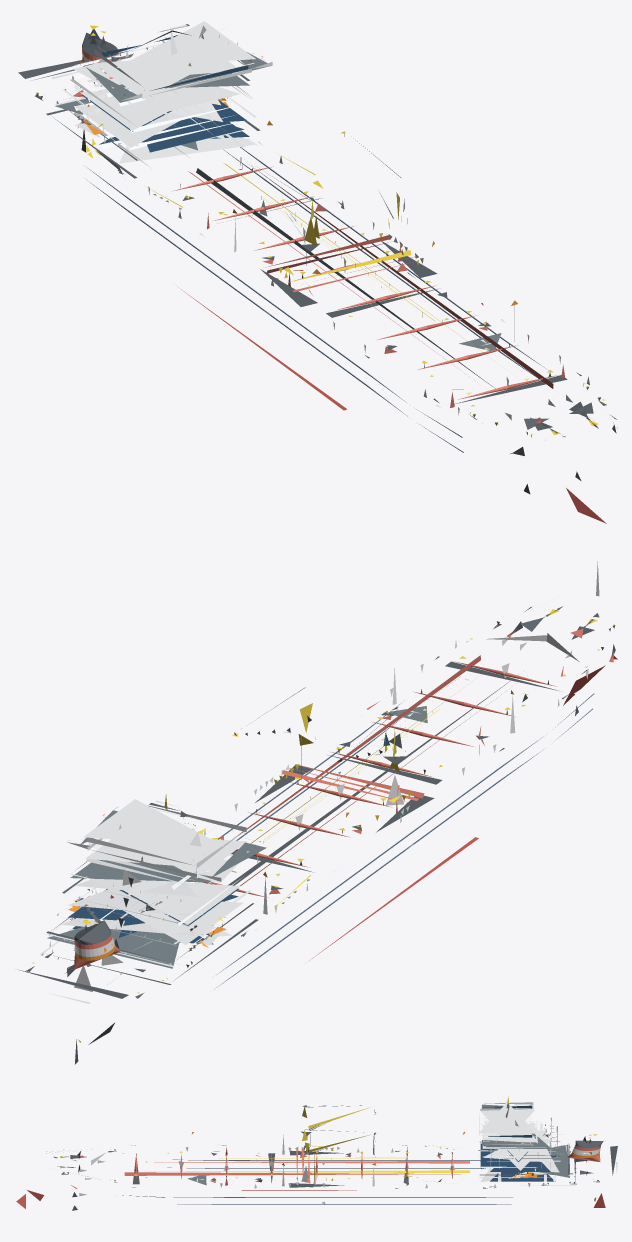
The model's file is ship_30.glb.
3 views of the same model, one above another, from view 1: azimuth 30°, elevation 25°; view 2: azimuth 150°, elevation 25°; view 3: azimuth 270°, elevation 25° (orthographic). The views are drawn at different scales.
Parts seen in each view (by area): view 1: TrueHelm_Ship_30; view 2: TrueHelm_Ship_30; view 3: TrueHelm_Ship_30.
Boxes of the visible parts, x1,y1,x2,y2 form: TrueHelm_Ship_30: [18, 21, 617, 523]; TrueHelm_Ship_30: [18, 561, 617, 1064]; TrueHelm_Ship_30: [16, 1096, 617, 1210].
Size of the model in its own units: 0.1503 by 0.1944 by 0.9248.
